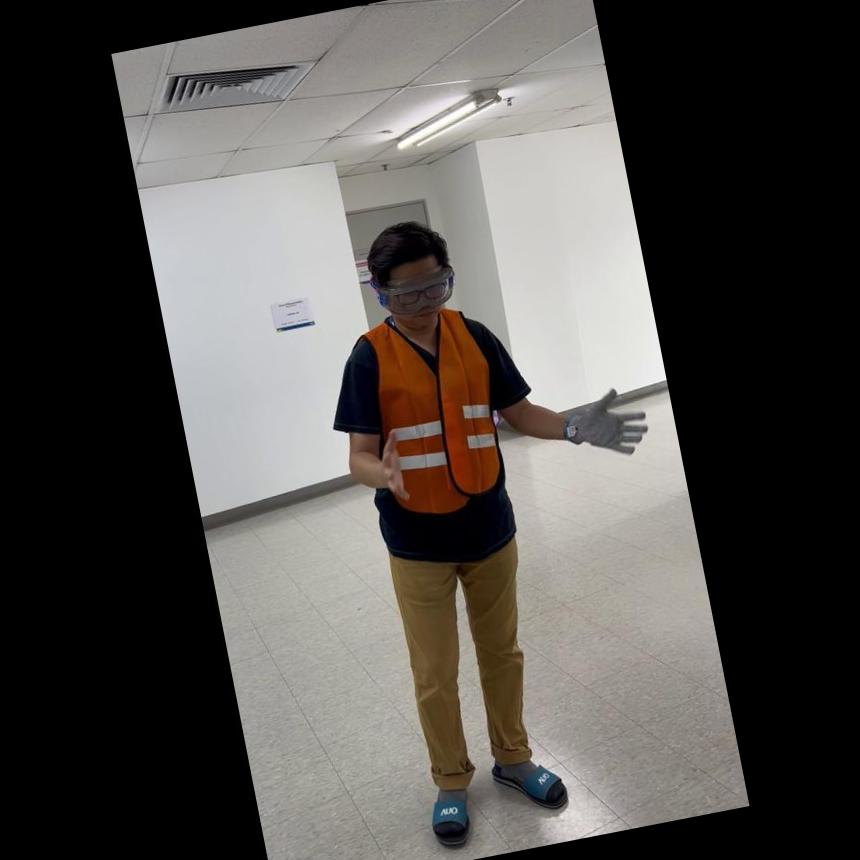Gloves: (553, 378, 652, 466)
No-gloves: (340, 432, 414, 514)
